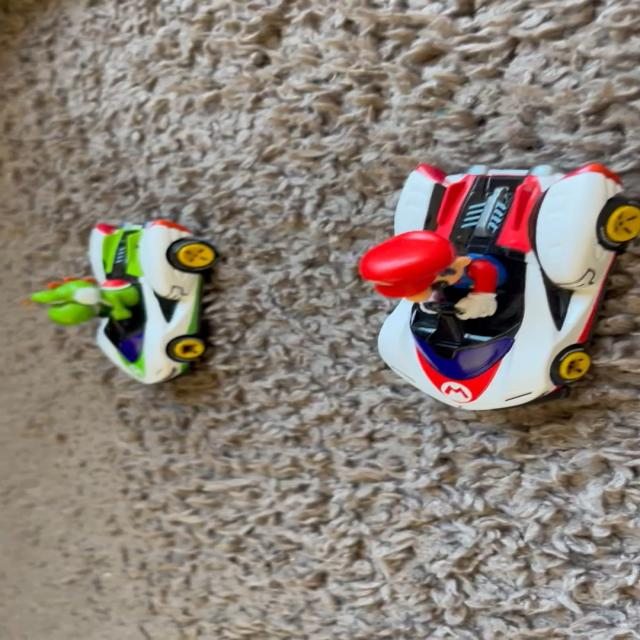mario: (354, 169, 640, 424)
yoshi: (11, 192, 234, 408)
